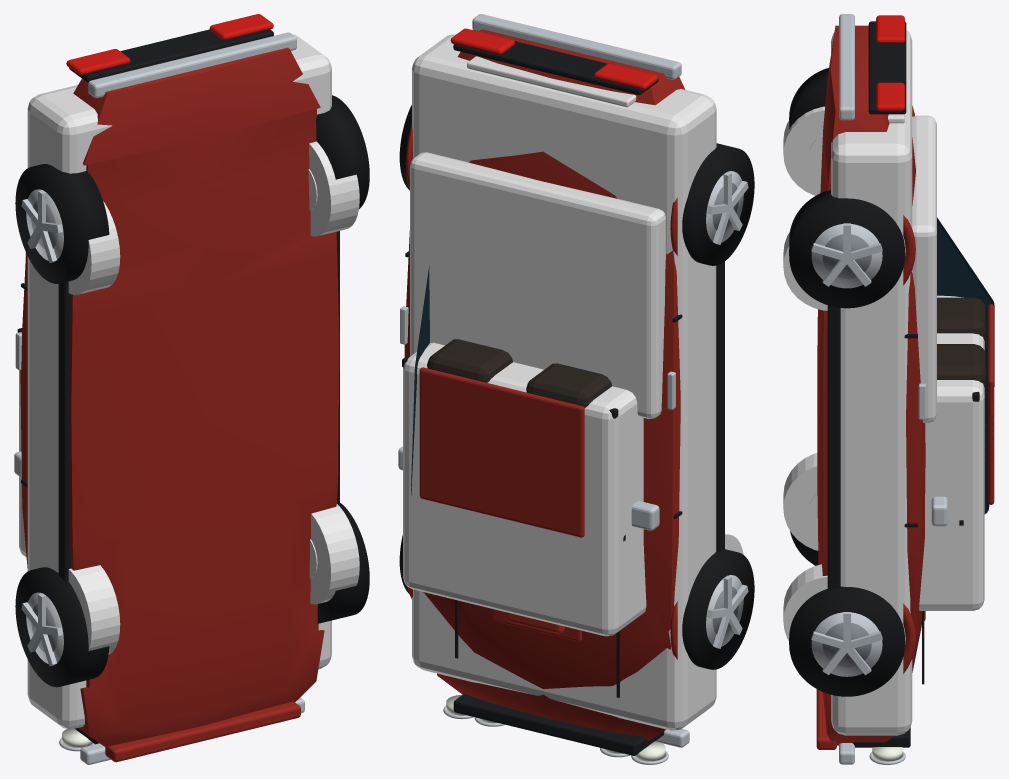
Rendered from HeroCrownfire.fbx.
3 views of the same model, side by side, from view 1: azimuth 30°, elevation 25°; view 2: azimuth 150°, elevation 25°; view 3: azimuth 270°, elevation 25° (orthographic). The views are drawn at different scales.
Visible parts, largest first — view 1: Crownfire_BODY_SHELL, hero_1967_Body, Crownfire_TIRE.001, Crownfire_TIRE, hero_1967_Wheel.002, Crownfire_ROCKER, Crownfire_REAR_BUMPER, Crownfire_LOWER_VALANCE, Crownfire_TIRE.003, hero_1967_Wheel.003, hero_1967_Wheel, Crownfire_REAR_LAMP_PANEL (+6 smaller); view 2: hero_1967_Body, hero_1967_Hood, hero_1967_Cabin, Crownfire_BODY_SHELL, Crownfire_ROOF_PANEL, Crownfire_TIRE.001, Crownfire_TIRE, Crownfire_FRONT_GRILLE, Crownfire_REAR_BUMPER, Crownfire_REAR_LAMP_PANEL, Crownfire_ROCKER, Crownfire_SEAT_BACK (+9 smaller); view 3: hero_1967_Body, hero_1967_Cabin, Crownfire_BODY_SHELL, Crownfire_TIRE.003, Crownfire_TIRE.002, hero_1967_Hood, Crownfire_ROCKER.001, Crownfire_GLASSHOUSE, hero_1967_Wheel, hero_1967_Wheel.001, Crownfire_REAR_LAMP_PANEL, Crownfire_SEAT_BACK (+18 smaller).
Boxes of the visible parts, left/top/right/bottom form: Crownfire_BODY_SHELL: left=20, top=47, right=339, bottom=748; hero_1967_Body: left=27, top=34, right=331, bottom=728; Crownfire_TIRE.001: left=15, top=164, right=109, bottom=283; Crownfire_TIRE: left=15, top=567, right=109, bottom=687; hero_1967_Wheel.002: left=310, top=504, right=359, bottom=604; Crownfire_ROCKER: left=58, top=281, right=71, bottom=581; Crownfire_REAR_BUMPER: left=88, top=32, right=296, bottom=98; Crownfire_LOWER_VALANCE: left=105, top=701, right=300, bottom=762; Crownfire_TIRE.003: left=316, top=95, right=369, bottom=208; hero_1967_Wheel.003: left=309, top=141, right=359, bottom=236; hero_1967_Wheel: left=68, top=565, right=120, bottom=654; Crownfire_REAR_LAMP_PANEL: left=69, top=29, right=273, bottom=82; hero_1967_Body: left=412, top=34, right=716, bottom=730; hero_1967_Hood: left=410, top=152, right=665, bottom=418; hero_1967_Cabin: left=403, top=342, right=646, bottom=636; Crownfire_BODY_SHELL: left=404, top=29, right=685, bottom=741; Crownfire_ROOF_PANEL: left=419, top=367, right=584, bottom=537; Crownfire_TIRE.001: left=682, top=143, right=754, bottom=265; Crownfire_TIRE: left=682, top=549, right=754, bottom=669; Crownfire_FRONT_GRILLE: left=453, top=693, right=664, bottom=755; Crownfire_REAR_BUMPER: left=472, top=14, right=681, bottom=79; Crownfire_REAR_LAMP_PANEL: left=453, top=41, right=658, bottom=94; Crownfire_ROCKER: left=716, top=261, right=724, bottom=551; Crownfire_SEAT_BACK: left=526, top=363, right=611, bottom=407; hero_1967_Body: left=831, top=30, right=912, bottom=735; hero_1967_Cabin: left=919, top=295, right=984, bottom=610; Crownfire_BODY_SHELL: left=817, top=25, right=925, bottom=745; Crownfire_TIRE.003: left=789, top=190, right=904, bottom=308; Crownfire_TIRE.002: left=789, top=586, right=904, bottom=696; hero_1967_Hood: left=912, top=115, right=936, bottom=422; Crownfire_ROCKER.001: left=827, top=305, right=840, bottom=590; Crownfire_GLASSHOUSE: left=937, top=217, right=994, bottom=514; hero_1967_Wheel: left=783, top=453, right=818, bottom=550; hero_1967_Wheel.001: left=783, top=106, right=824, bottom=195; Crownfire_REAR_LAMP_PANEL: left=868, top=21, right=906, bottom=114; Crownfire_SEAT_BACK: left=937, top=297, right=985, bottom=344.
Bounding box in the file's own units: 235 × 499 × 146.
